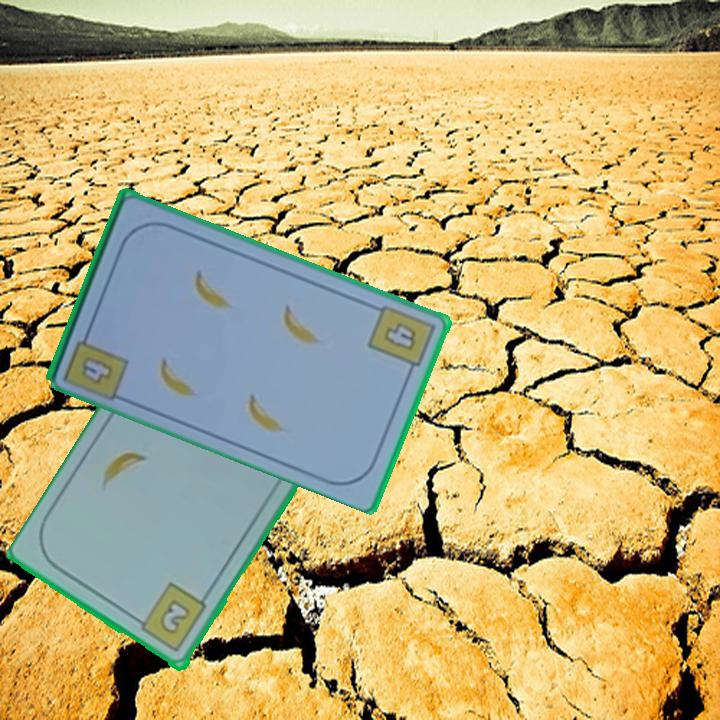2b: (131, 580, 210, 656)
4b: (364, 301, 438, 379), (78, 352, 117, 387)
